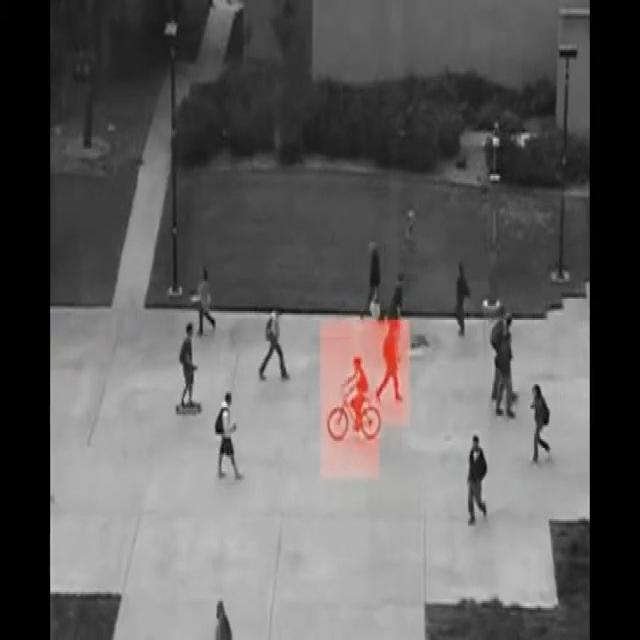anamoly: (320, 338, 389, 483), (168, 302, 219, 446)
